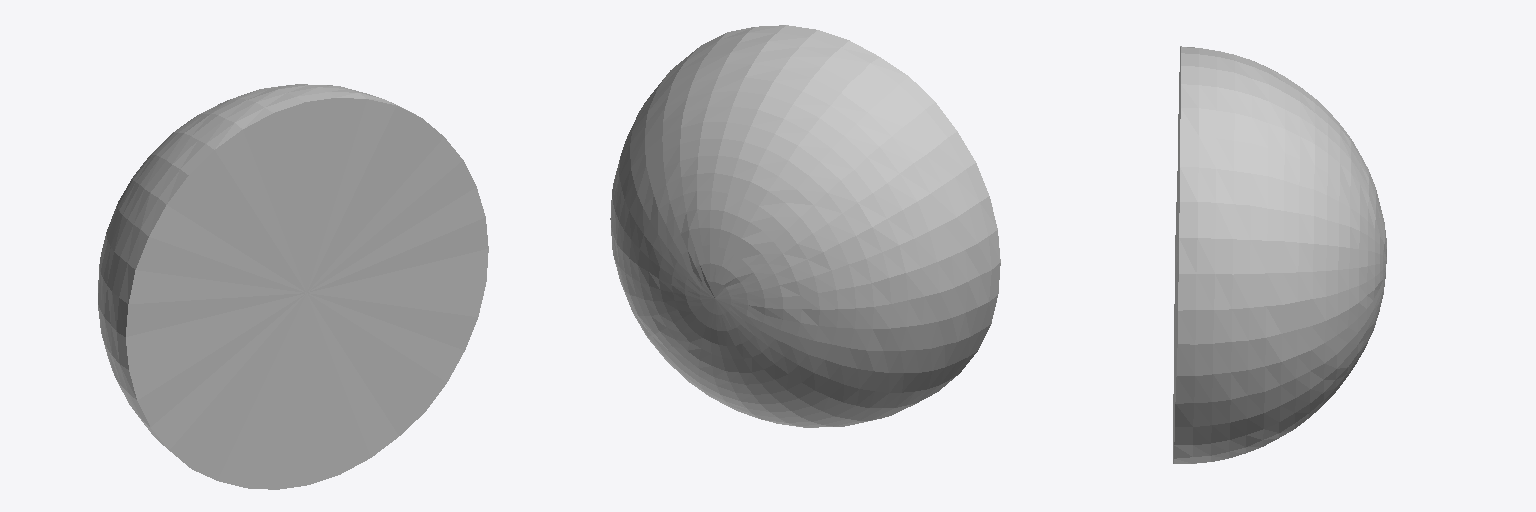
File: Pie_Derecho.obj
3 views of the same model, side by side, from view 1: azimuth 30°, elevation 25°; view 2: azimuth 150°, elevation 25°; view 3: azimuth 270°, elevation 25° (orthographic).
Parts seen in each view (by area): view 1: obj_0; view 2: obj_0; view 3: obj_0.
Part boxes in pixels (x1,y1,x2,y2): obj_0: (98, 84, 488, 489); obj_0: (610, 25, 1000, 427); obj_0: (1173, 46, 1386, 463).
Size of the model in its own units: 0.379 by 0.379 by 0.193.